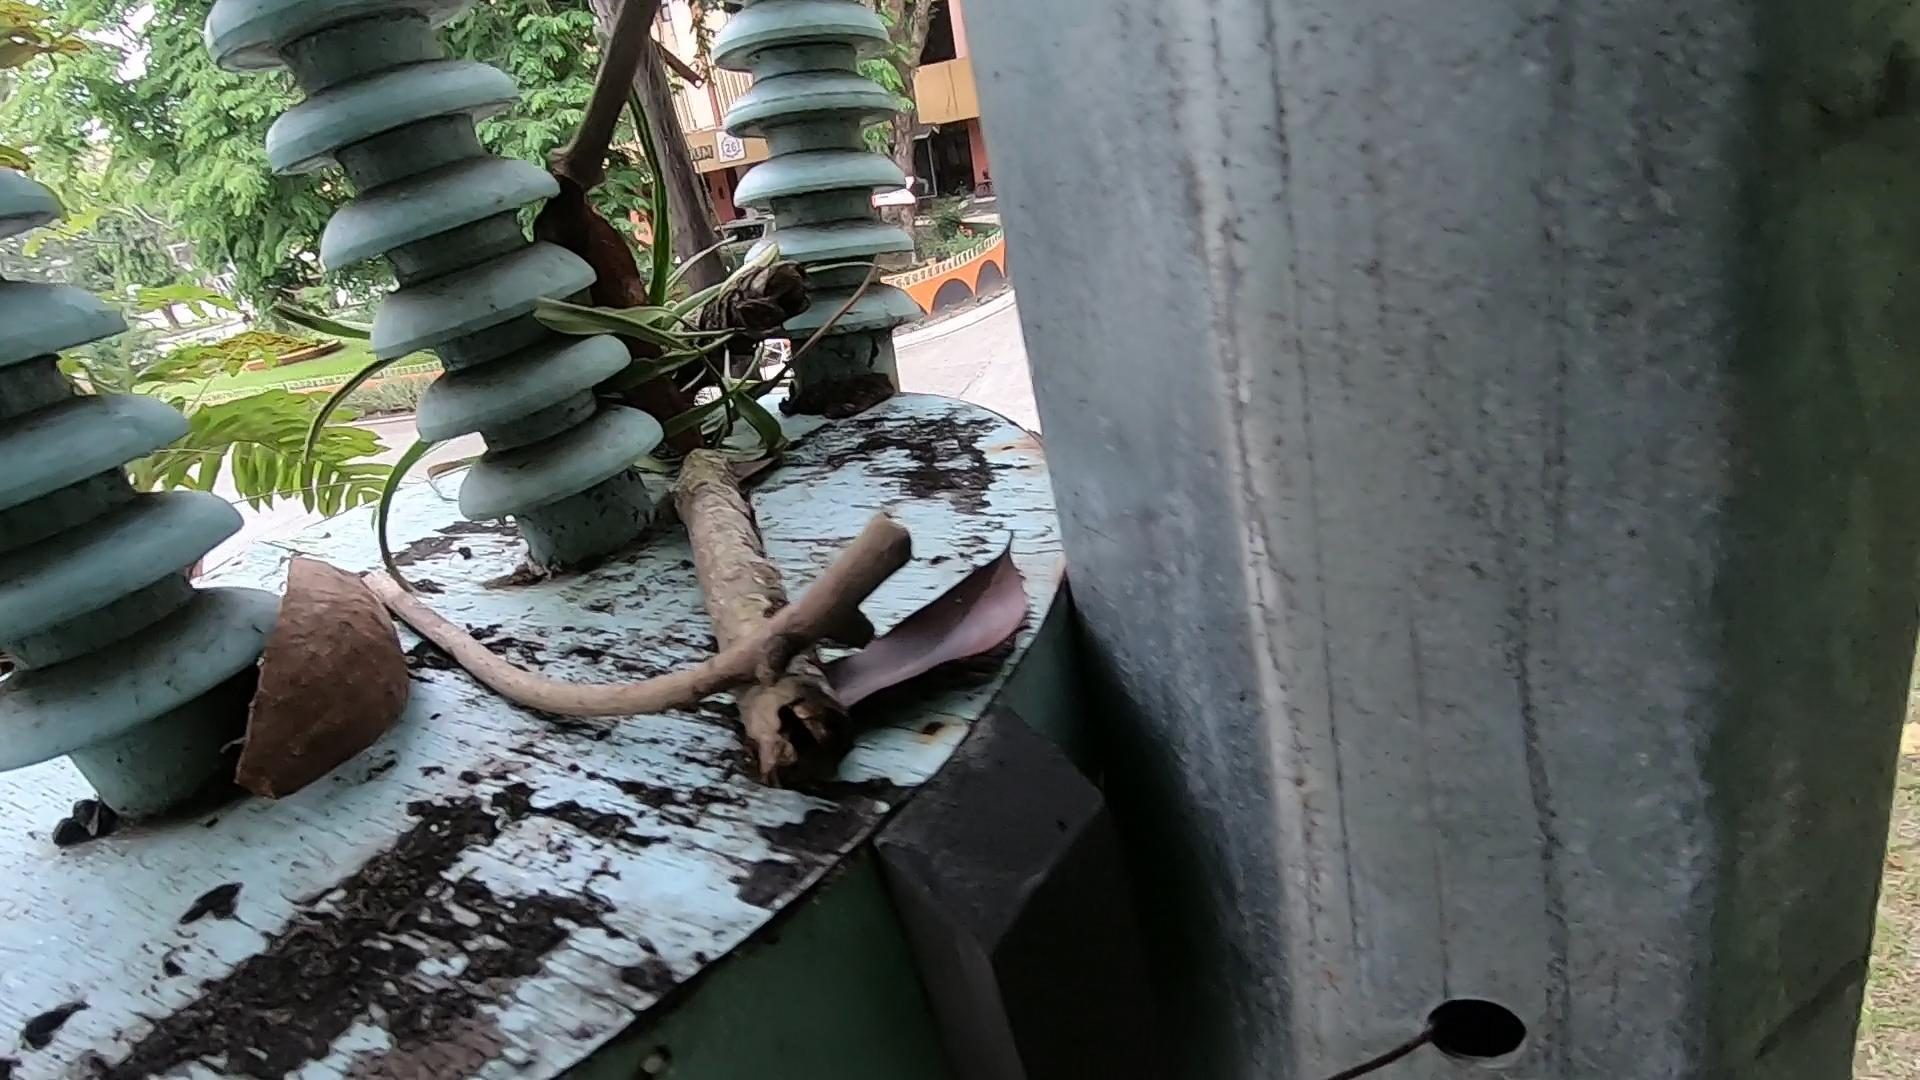branch with leaves: (520, 186, 960, 851)
leaf: (831, 454, 1044, 771)
mahogany fruit: (527, 164, 835, 516), (239, 559, 418, 832)
tree branch: (363, 601, 967, 765), (554, 1, 700, 244)
